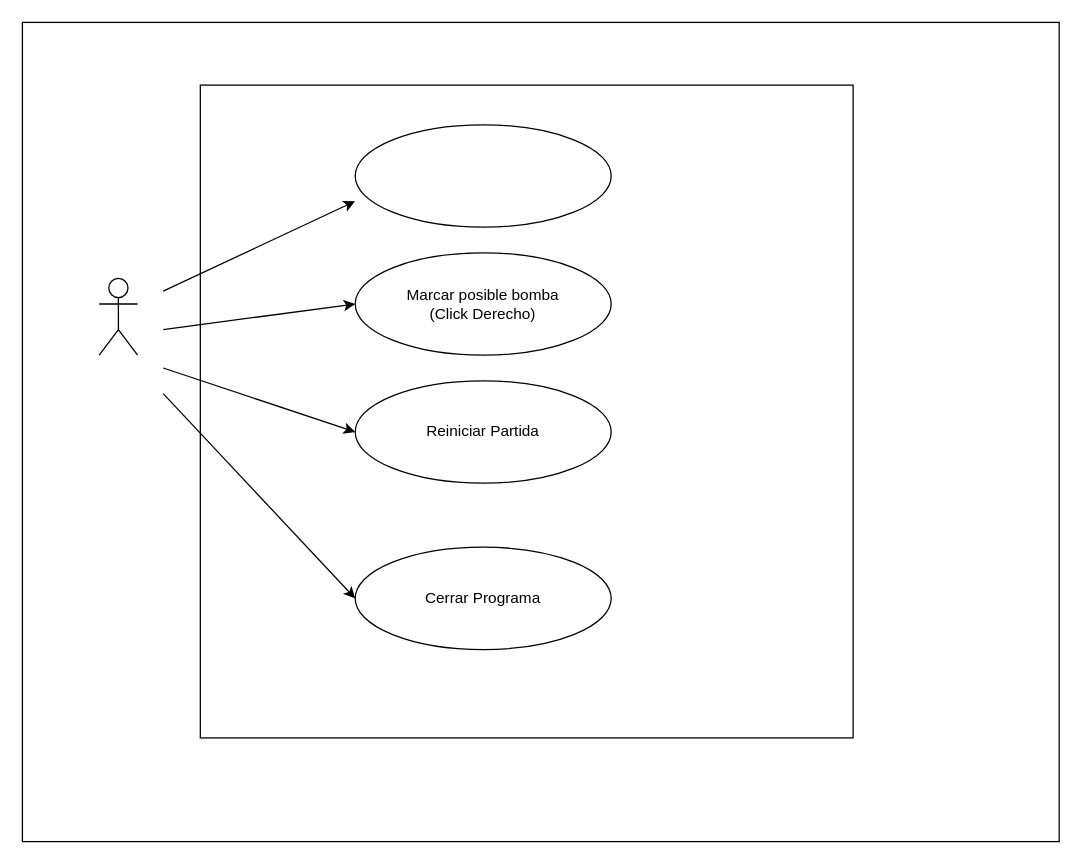
This 1082x864 diagram has some shape labels left out. The shapes that lost their labels are listed below. From the top down, each one's centre as x and y in pixels, then its label:
the point at 482,175: Inicio del juego (1r Click Izquierdo)
the point at 118,316: Actor
